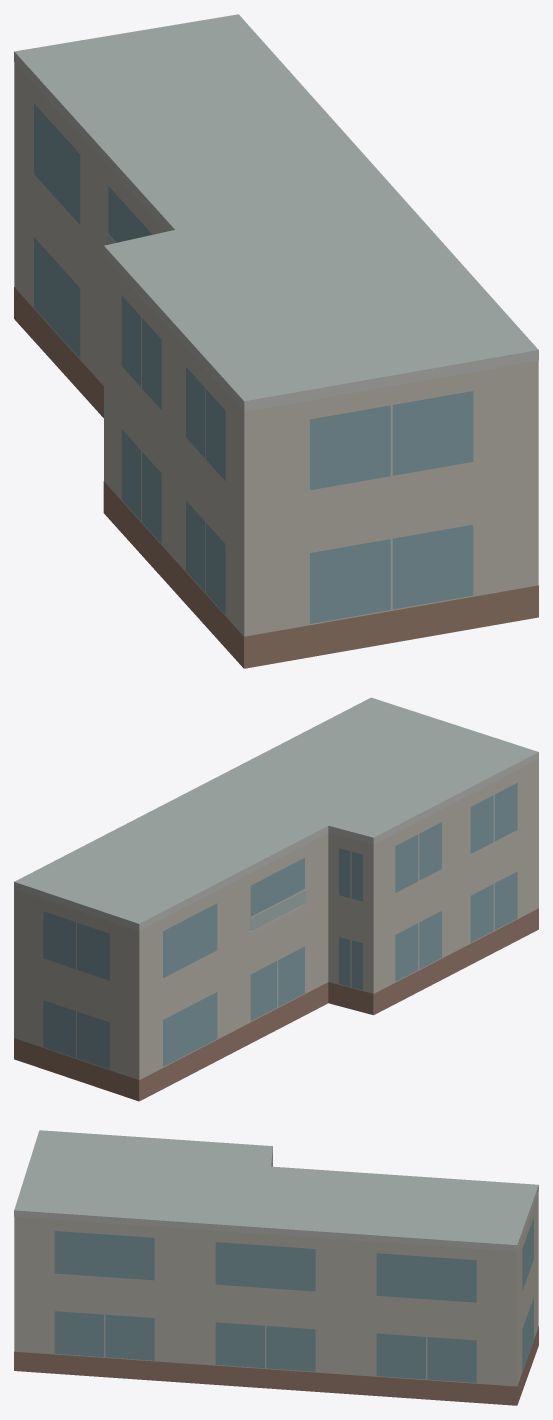
Rendered from survey-upis-32516023.glb.
3 views of the same model, one above another, from view 1: azimuth 30°, elevation 25°; view 2: azimuth 150°, elevation 25°; view 3: azimuth 270°, elevation 25° (orthographic). The views are drawn at different scales.
Parts seen in each view (by area): view 1: survey-upis-32516023.tmp; view 2: survey-upis-32516023.tmp; view 3: survey-upis-32516023.tmp.
Boxes of the visible parts, x1=… form: survey-upis-32516023.tmp: x1=14, y1=14, x2=538, y2=668; survey-upis-32516023.tmp: x1=14, y1=697, x2=538, y2=1101; survey-upis-32516023.tmp: x1=14, y1=1130, x2=538, y2=1405.
Bounding box in the file's own units: 9.38 × 6.1 × 18.08.
